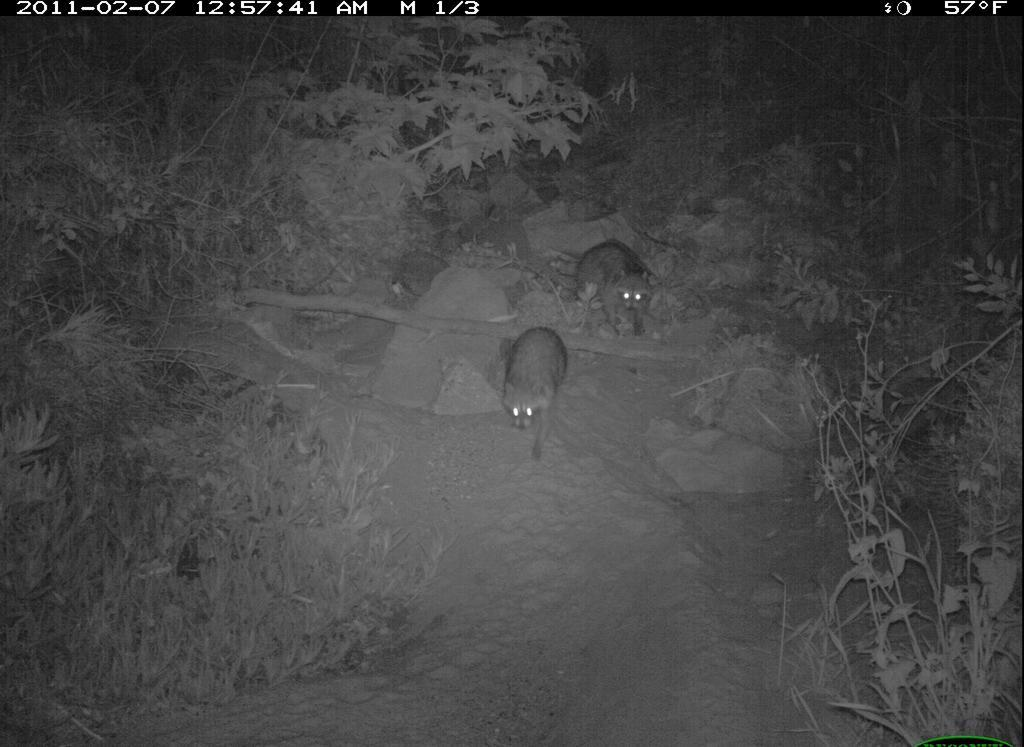raccoon: (493, 323, 566, 466), (569, 233, 660, 342)
